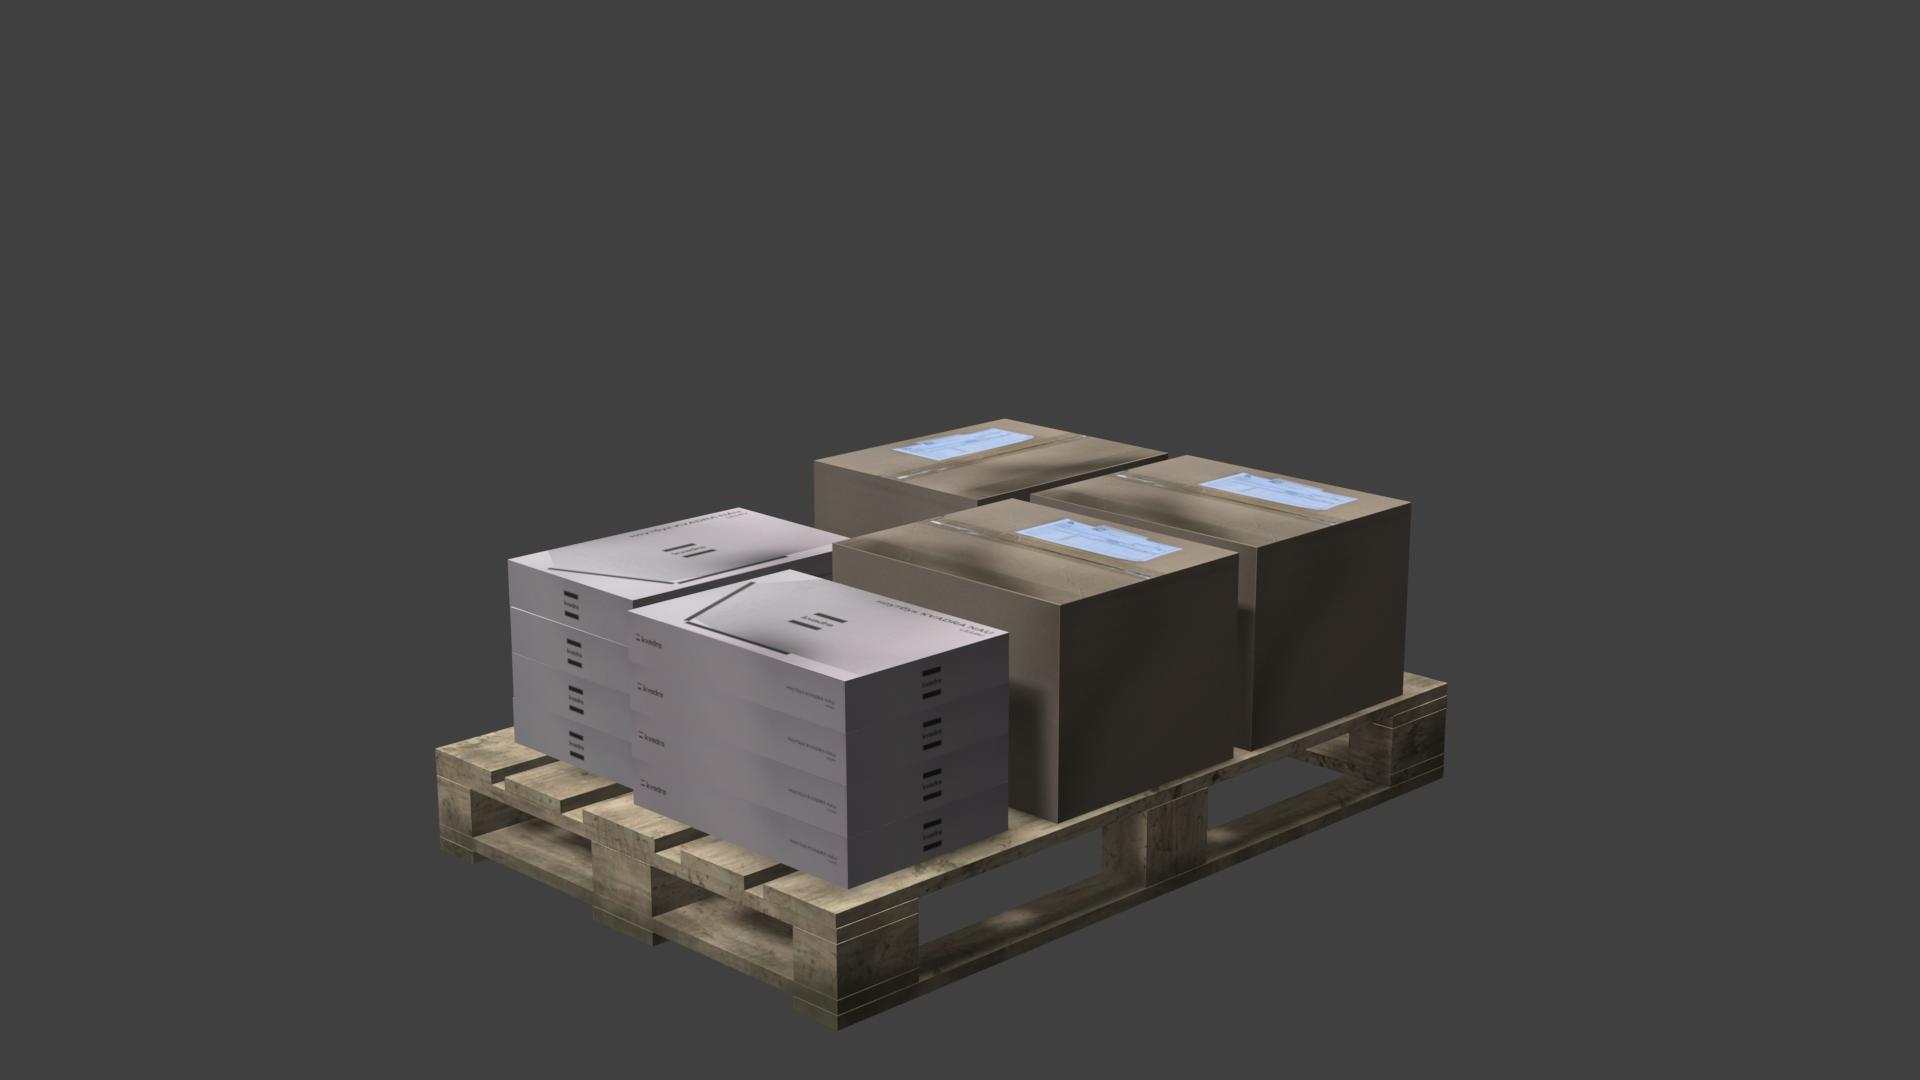group_box_left: (833, 546, 1240, 825), (1238, 505, 1412, 753), (815, 464, 977, 538)
group_box_top: (837, 497, 1234, 607), (1033, 452, 1410, 549), (816, 418, 1168, 501)
laptop_left: (633, 754, 1010, 891), (630, 715, 1009, 835), (626, 613, 1009, 731), (630, 669, 1009, 786), (513, 696, 633, 790), (509, 560, 633, 646), (513, 654, 630, 740), (512, 609, 632, 692)
laptop_top: (634, 568, 1009, 680), (510, 506, 849, 603)
palet: (435, 671, 1447, 1034)
